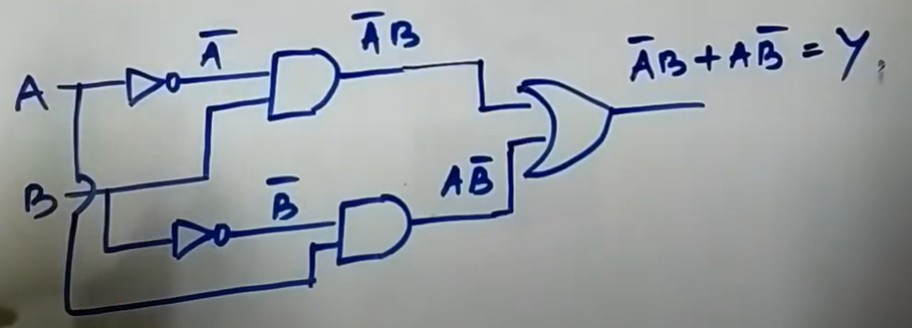and gate: (337, 193, 414, 262), (269, 46, 343, 117)
not gate: (173, 220, 231, 261), (127, 68, 181, 106)
or gate: (518, 77, 616, 174)
